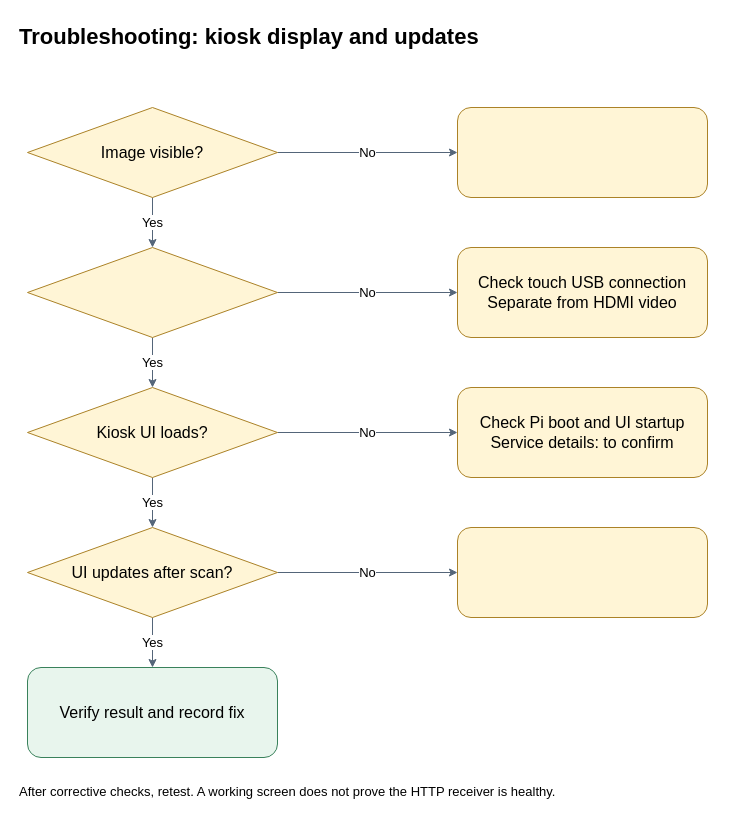
This 734x832 diagram has some shape labels left out. Here are the shapes that lost their labels. From the top down, the centre of each, then its label:
At (x=582, y=152): "Check display supply / HDMI Display USB also powers Pi".
At (x=152, y=292): "Touch input works?".
At (x=582, y=572): "Check EasyLog → FOM first Then FOM GET → correct Pi".
